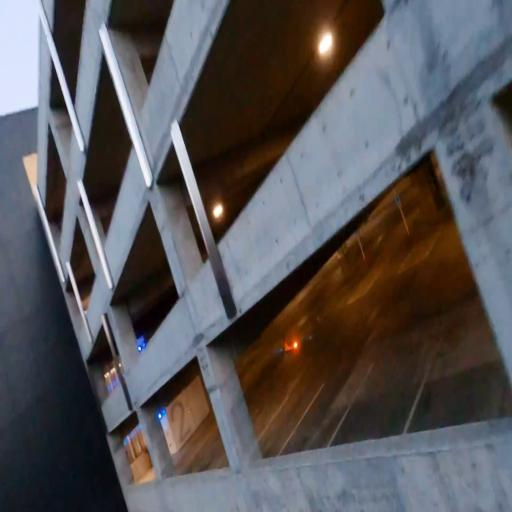uav: (276, 334, 320, 362)
